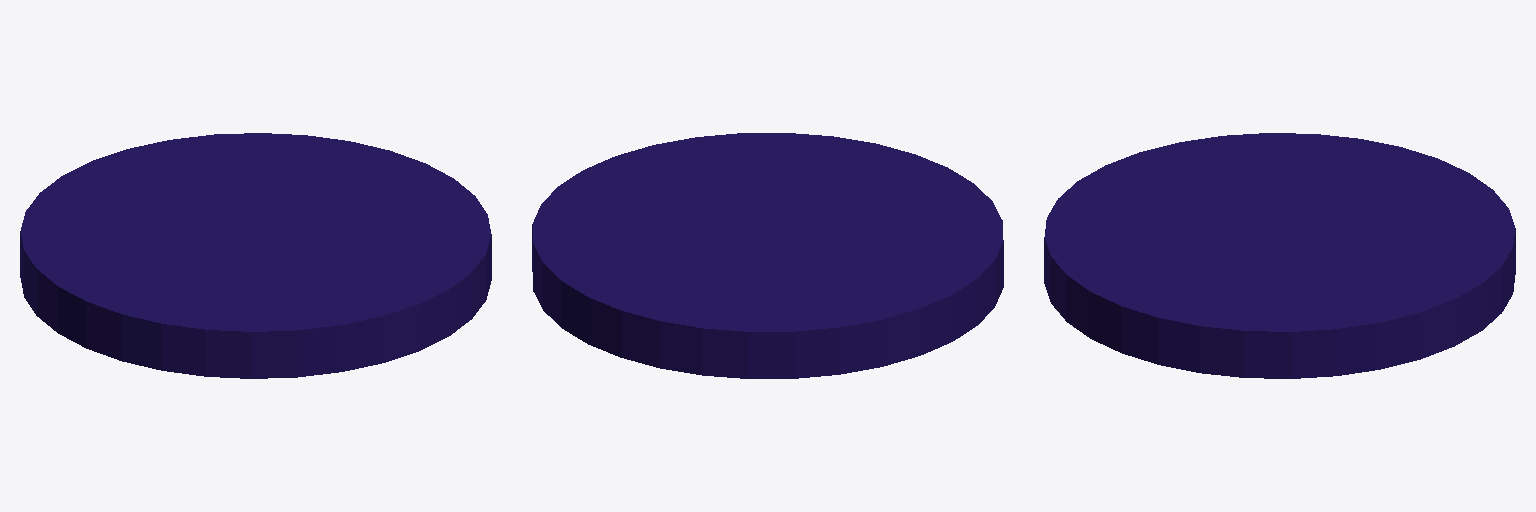
robot.urdf — Interference:
<?xml version="1.0"?>
<robot name="Interference">
  <link name="baseLink">
    <inertial>
      <origin xyz="0.0 0.0 0.0" rpy="0.0 0.0 0.0"/>
      <inertia ixx="0.0" ixy="0.0" ixz="0.0" iyy="0.0" iyz="0.0" izz="0.0"/>
      <mass value="0"/>
    </inertial>
    <visual>
      <origin xyz="0.0 0.0 0.0" rpy="0.0 0.0 -0.7375803559201972"/>
      <geometry>
        <cylinder radius="0.0453613240074293" length="0.01"/>
      </geometry>
      <material name="color">
        <color rgba="0.18369941486949581 0.12460859891350651 0.42196973472238775 1.0"/>
      </material>
    </visual>
  </link>
</robot>

--- What the picture shows (computed from the rendered views, not written in the file) ---
The picture shows the robot from 3 angles, left to right: view 1: azimuth 30°, elevation 25°; view 2: azimuth 150°, elevation 25°; view 3: azimuth 270°, elevation 25°; orthographic projection.
Robot: Interference — 1 links, 0 joints (none); root link baseLink; default pose: all joints at 0.
Links seen in each view (by area): view 1: baseLink; view 2: baseLink; view 3: baseLink.
Link boxes in pixels (box(x1,y1,x2,y2)): baseLink: box(20, 133, 491, 378); baseLink: box(532, 133, 1003, 378); baseLink: box(1044, 133, 1515, 378).
Size in the robot's own frame: 0.0906 by 0.0906 by 0.01 metres.
Geometry: primitives only (box / cylinder / sphere), no mesh files.